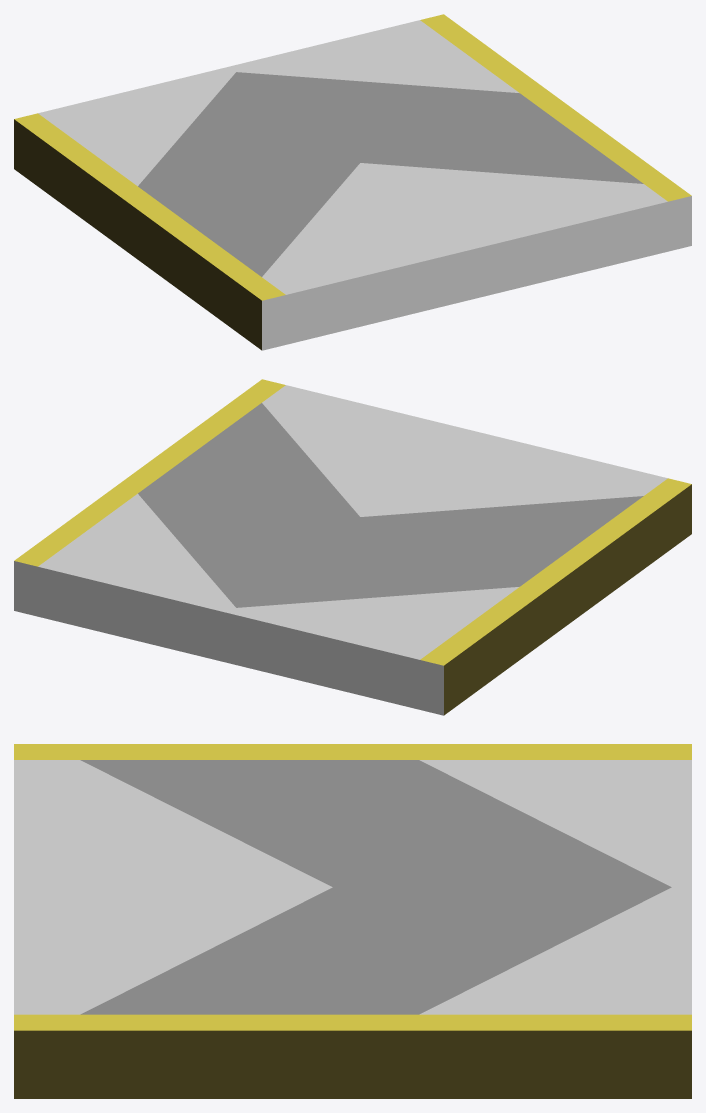
Rendered from Path1.fbx.
3 views of the same model, one above another, from view 1: azimuth 30°, elevation 25°; view 2: azimuth 150°, elevation 25°; view 3: azimuth 270°, elevation 25° (orthographic). The views are drawn at different scales.
Parts seen in each view (by area): view 1: Cube; view 2: Cube; view 3: Cube.
Boxes of the visible parts, <box> form: Cube: <box>14,14,691,350</box>; Cube: <box>14,379,691,715</box>; Cube: <box>14,744,691,1098</box>.
Size of the model in its own units: 9 by 1 by 9.
